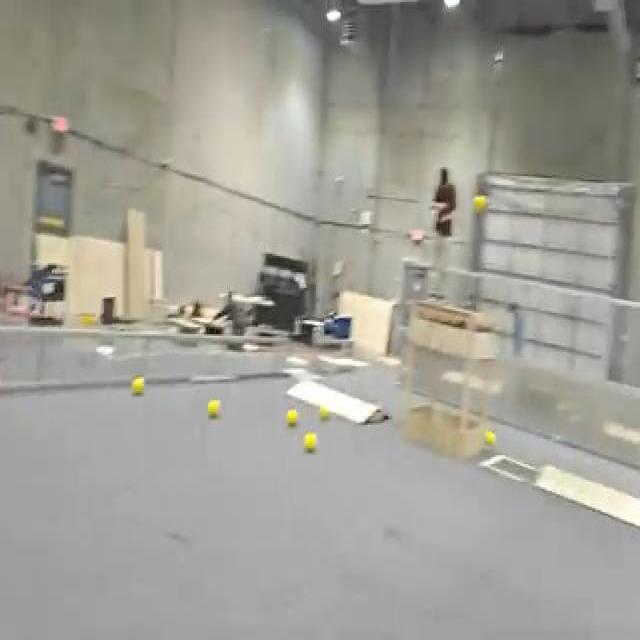Fuel: (303, 432, 316, 452), (473, 195, 488, 212), (131, 377, 144, 396), (304, 432, 316, 452), (208, 400, 220, 418), (132, 377, 144, 395), (474, 196, 487, 212), (287, 408, 297, 426), (485, 430, 496, 446), (319, 404, 330, 420), (287, 409, 297, 425), (485, 430, 495, 446), (319, 406, 330, 420)
